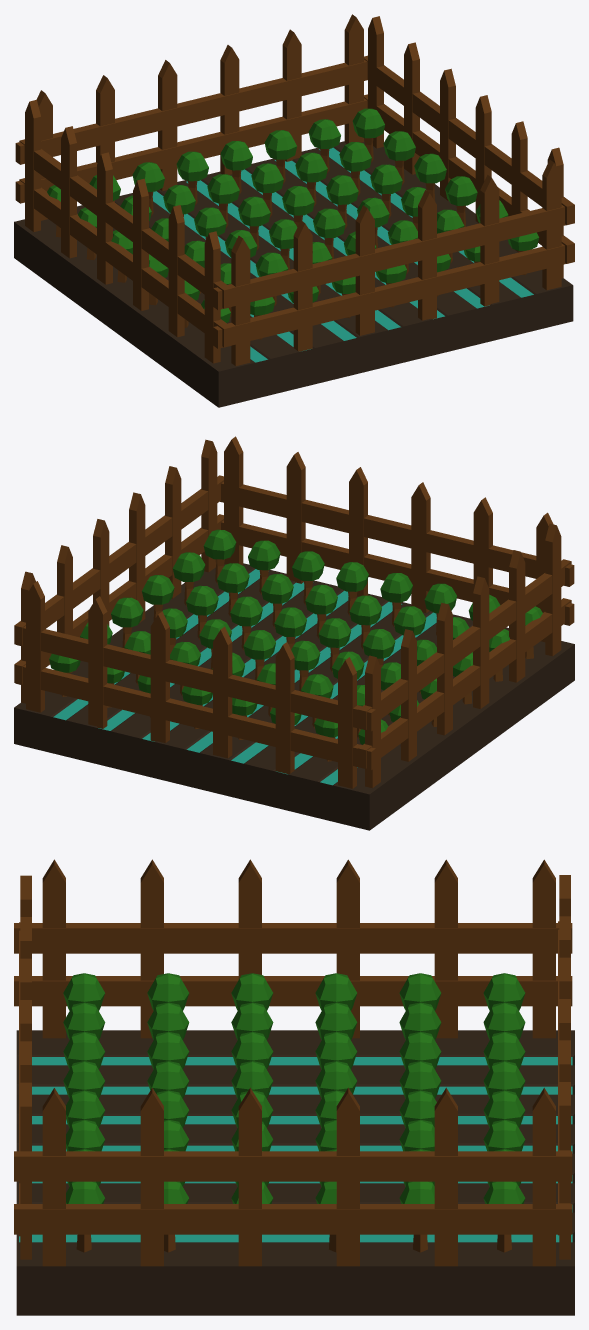
The model's file is RTS农田.fbx.
3 renders of one model, top to bottom at view 1: azimuth 30°, elevation 25°; view 2: azimuth 150°, elevation 25°; view 3: azimuth 270°, elevation 25°, orthographic. The views are drawn at different scales.
Parts seen in each view (by area): view 1: Plane, 立方体; view 2: Plane, 立方体; view 3: Plane, 立方体.
Boxes of the visible parts, bbox=[...] form: Plane: bbox=[14, 14, 574, 407]; 立方体: bbox=[47, 108, 539, 339]; Plane: bbox=[14, 436, 574, 830]; 立方体: bbox=[49, 529, 542, 761]; Plane: bbox=[14, 859, 574, 1315]; 立方体: bbox=[63, 973, 525, 1252].
Bounding box in the file's own units: 200 × 88.24 × 201.
